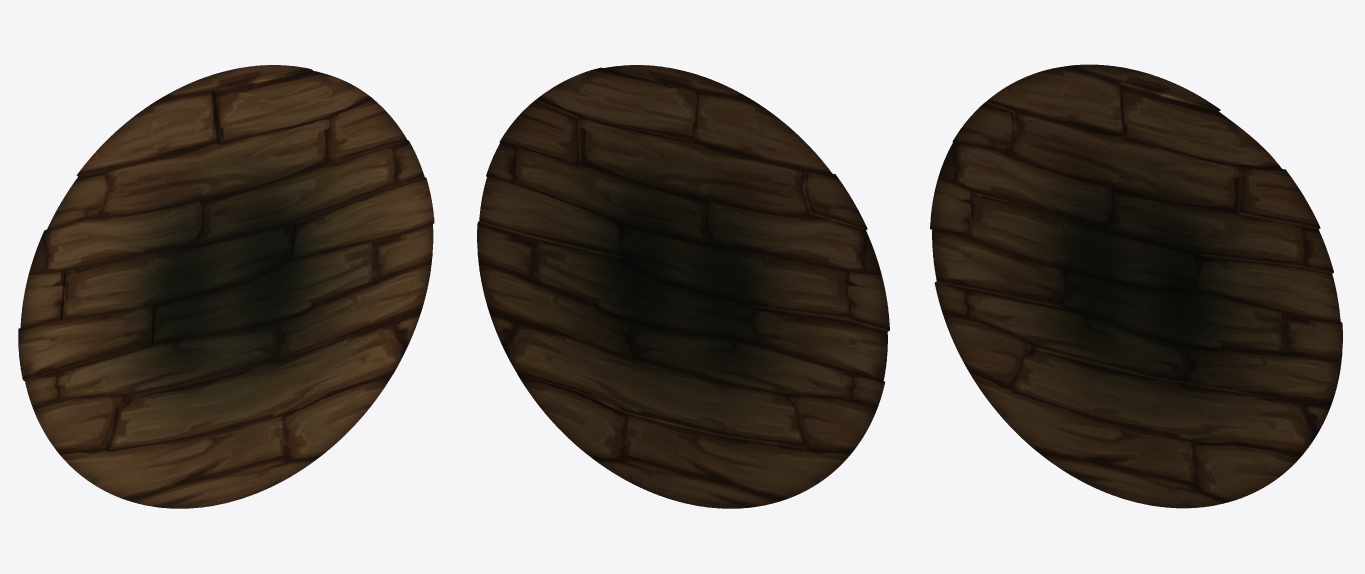
Rendered from vivi5.obj.
The picture shows the model from 3 angles, left to right: view 1: azimuth 30°, elevation 25°; view 2: azimuth 150°, elevation 25°; view 3: azimuth 330°, elevation 25°; orthographic projection.
Size of the model in its own units: 3.02 by 3.02 by 0.0686.
Materials: 1 (1 with a texture image).
